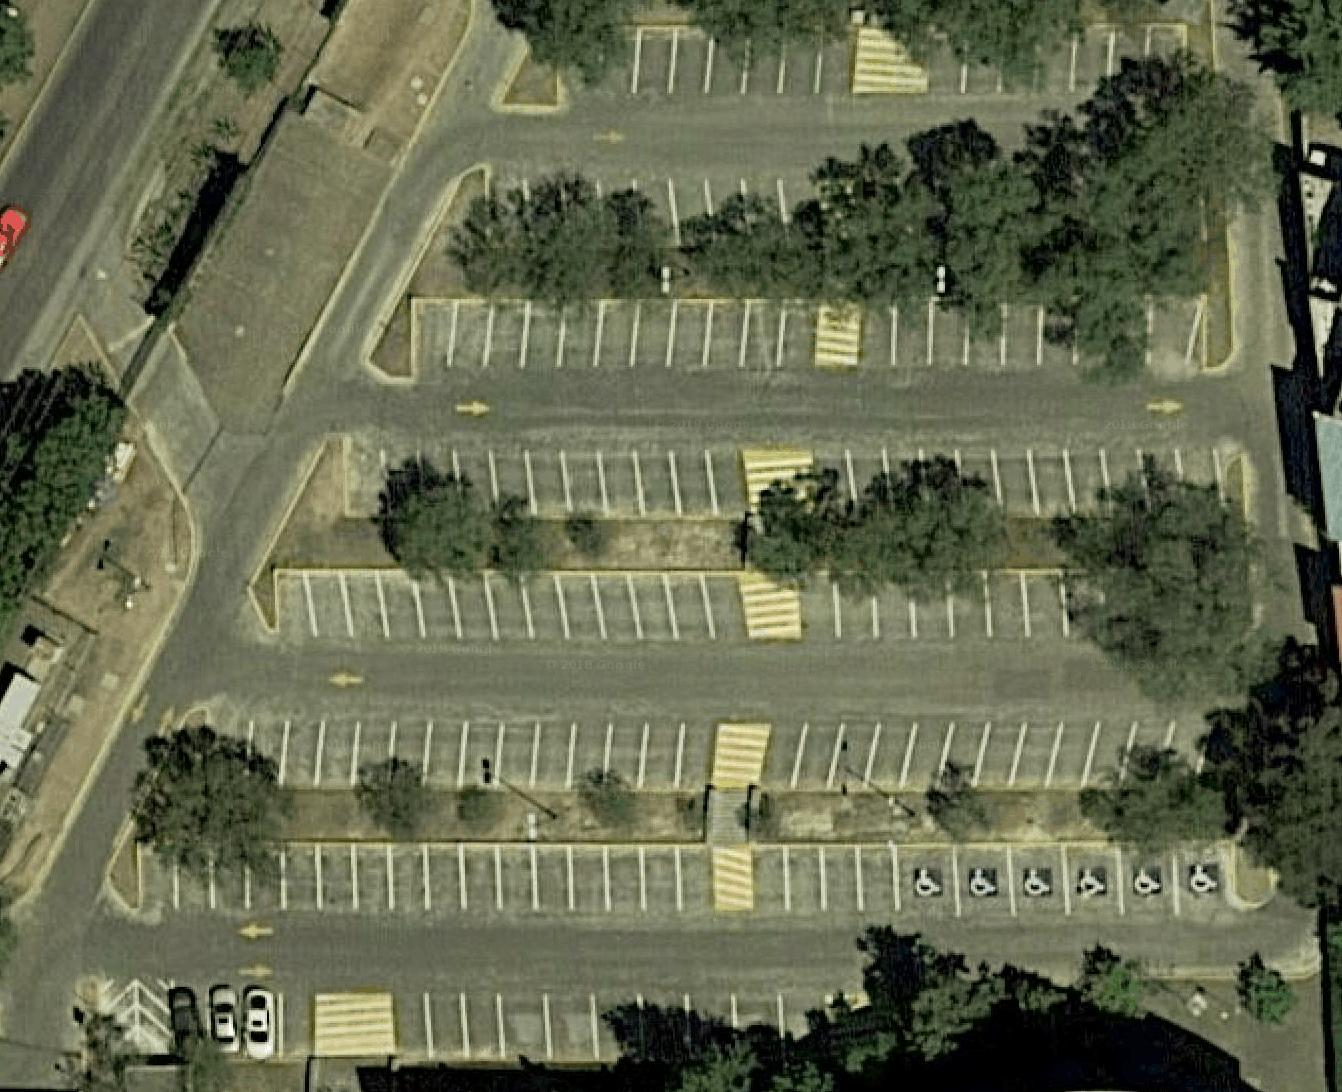parkingspot: (0, 0, 1322, 1088), (136, 842, 717, 916), (746, 839, 1236, 922), (203, 715, 721, 793), (274, 568, 753, 642), (753, 719, 1215, 792), (483, 170, 907, 248), (390, 989, 830, 1064), (343, 446, 756, 521), (410, 298, 823, 372), (810, 442, 1222, 517), (794, 569, 1110, 646), (555, 26, 860, 99), (924, 25, 1190, 96), (855, 298, 1081, 370), (172, 984, 319, 1062), (1209, 889, 1330, 977), (1146, 294, 1207, 373)
